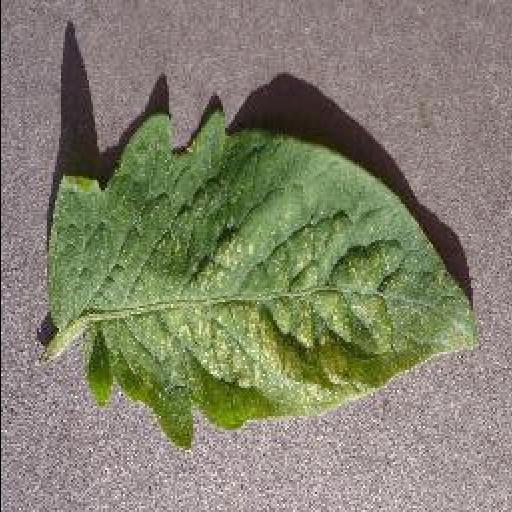disease_tomato: (48, 112, 478, 448)
